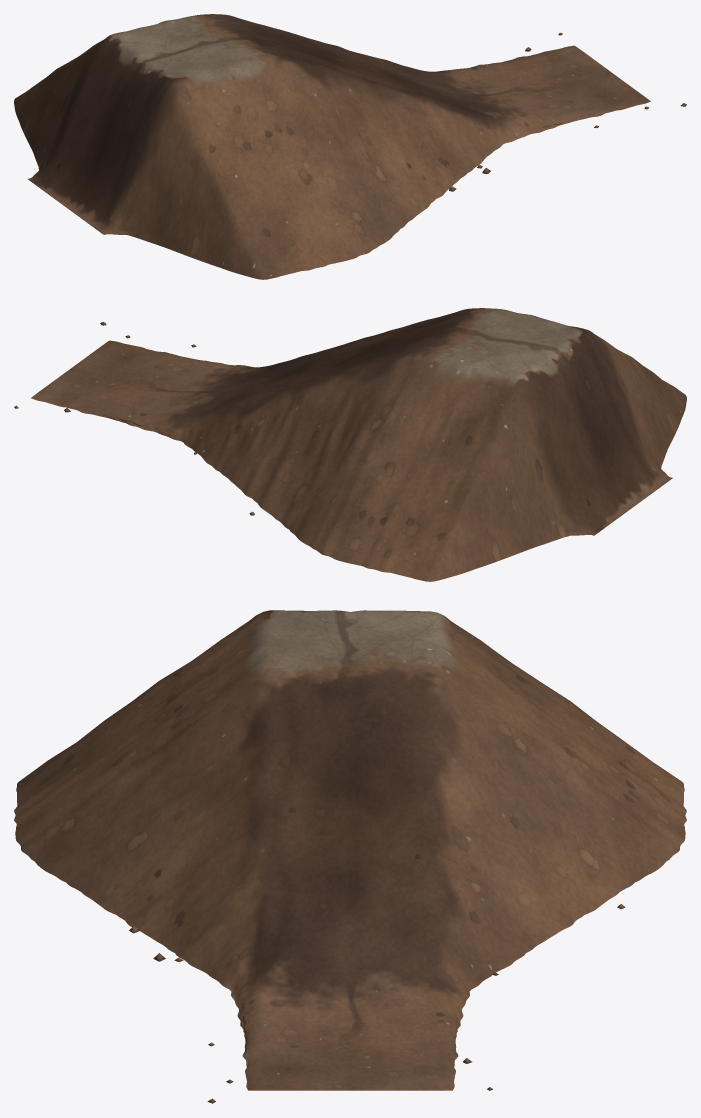
File: DR_Prop_WhipLanding.fbx
3 renders of one model, top to bottom at view 1: azimuth 30°, elevation 25°; view 2: azimuth 150°, elevation 25°; view 3: azimuth 270°, elevation 25°, orthographic. The views are drawn at different scales.
Visible parts, largest first — view 1: DR_Prop_WhipLanding; view 2: DR_Prop_WhipLanding; view 3: DR_Prop_WhipLanding.
Boxes of the visible parts, box(x1,y1,x2,y2) form: DR_Prop_WhipLanding: box(14, 14, 686, 279); DR_Prop_WhipLanding: box(14, 308, 686, 581); DR_Prop_WhipLanding: box(14, 610, 686, 1103).
Size of the model in its own units: 3.89 by 0.8539 by 2.98.
Materials: 1 (1 with a texture image).
